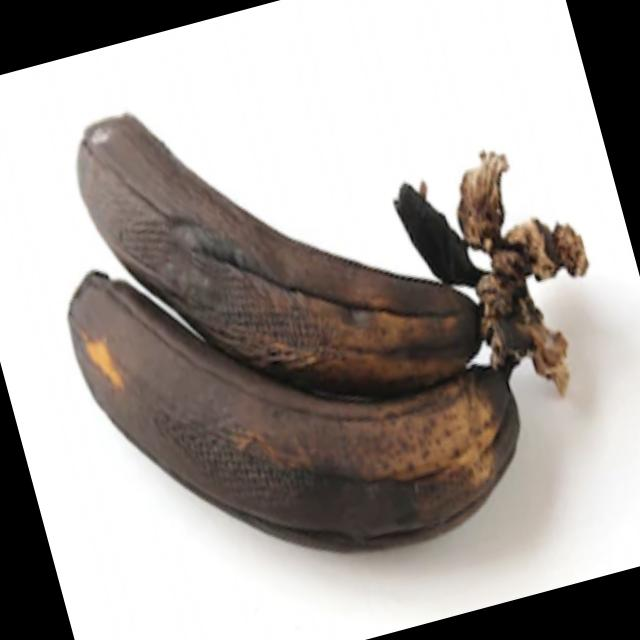rotten-banana: (56, 158, 610, 603), (64, 29, 506, 444)
